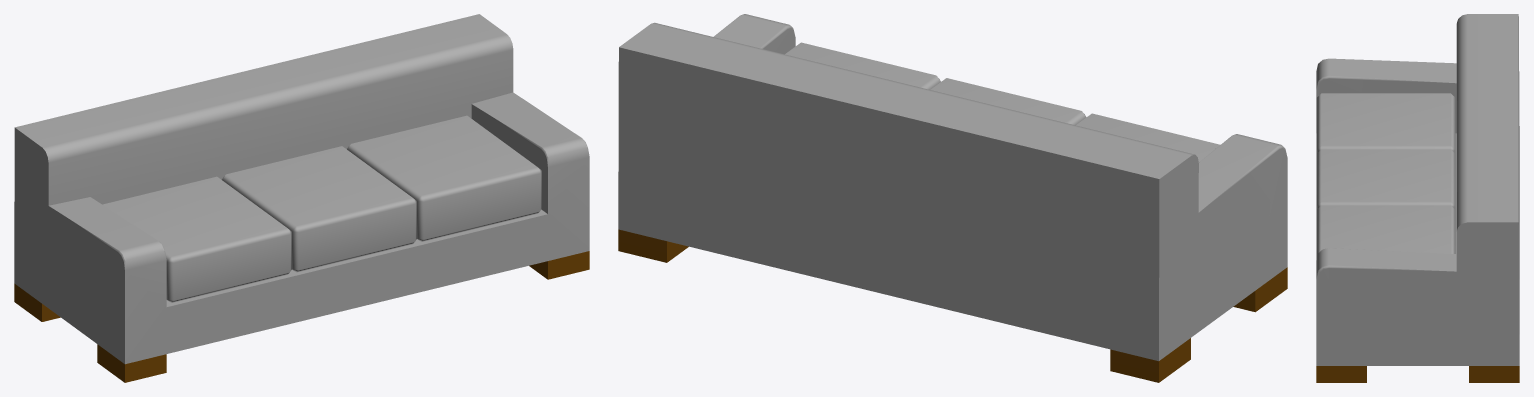
Rendered from Sofa.fbx.
3 views of the same model, side by side, from view 1: azimuth 30°, elevation 25°; view 2: azimuth 150°, elevation 25°; view 3: azimuth 270°, elevation 25° (orthographic). The views are drawn at different scales.
Visible parts, largest first — view 1: SofaBack1, CenterCushion, LeftCushion, RightCushion; view 2: SofaBack1, LeftCushion, CenterCushion, RightCushion; view 3: SofaBack1, CenterCushion, RightCushion, LeftCushion.
Boxes of the visible parts, box(x1,y1,x2,y2) form: SofaBack1: box(14, 14, 589, 382); CenterCushion: box(222, 146, 416, 272); LeftCushion: box(347, 115, 541, 242); RightCushion: box(102, 176, 291, 303); SofaBack1: box(618, 14, 1287, 382); LeftCushion: box(785, 42, 940, 89); CenterCushion: box(930, 78, 1086, 125); RightCushion: box(1076, 113, 1220, 162); SofaBack1: box(1316, 14, 1519, 382); CenterCushion: box(1316, 149, 1455, 209); RightCushion: box(1316, 93, 1455, 153); LeftCushion: box(1316, 205, 1455, 258).
Bounding box in the file's own units: 1.98 × 0.7123 × 0.8173.
